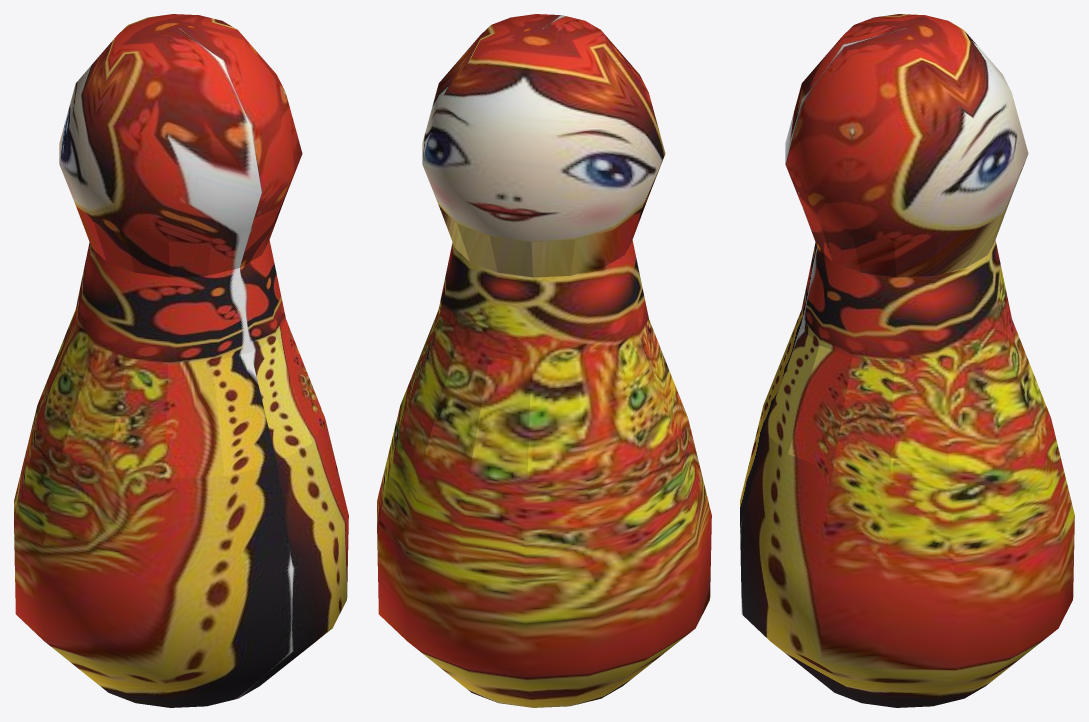
Rendered from Nesting Doll Customer.FBX.
3 views of the same model, side by side, from view 1: azimuth 30°, elevation 25°; view 2: azimuth 150°, elevation 25°; view 3: azimuth 270°, elevation 25° (orthographic).
Parts seen in each view (by area): view 1: Sphere002; view 2: Sphere002; view 3: Sphere002.
Part boxes in pixels (<box>): Sphere002: <box>14,14,348,707</box>; Sphere002: <box>377,14,711,707</box>; Sphere002: <box>740,14,1074,707</box>.
Bounding box in the file's own units: 35.23 × 74.21 × 35.04.
1 material, 1 textured.
